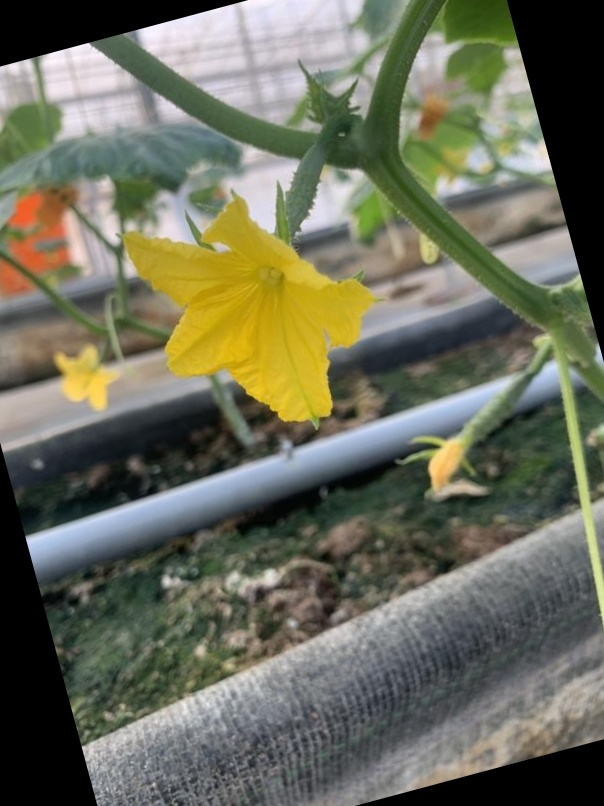flowering: (110, 133, 421, 434)
